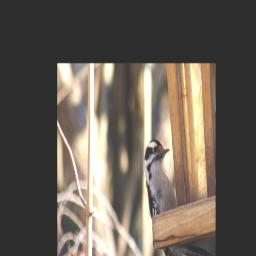Woodpecker: (144, 139, 212, 256)
